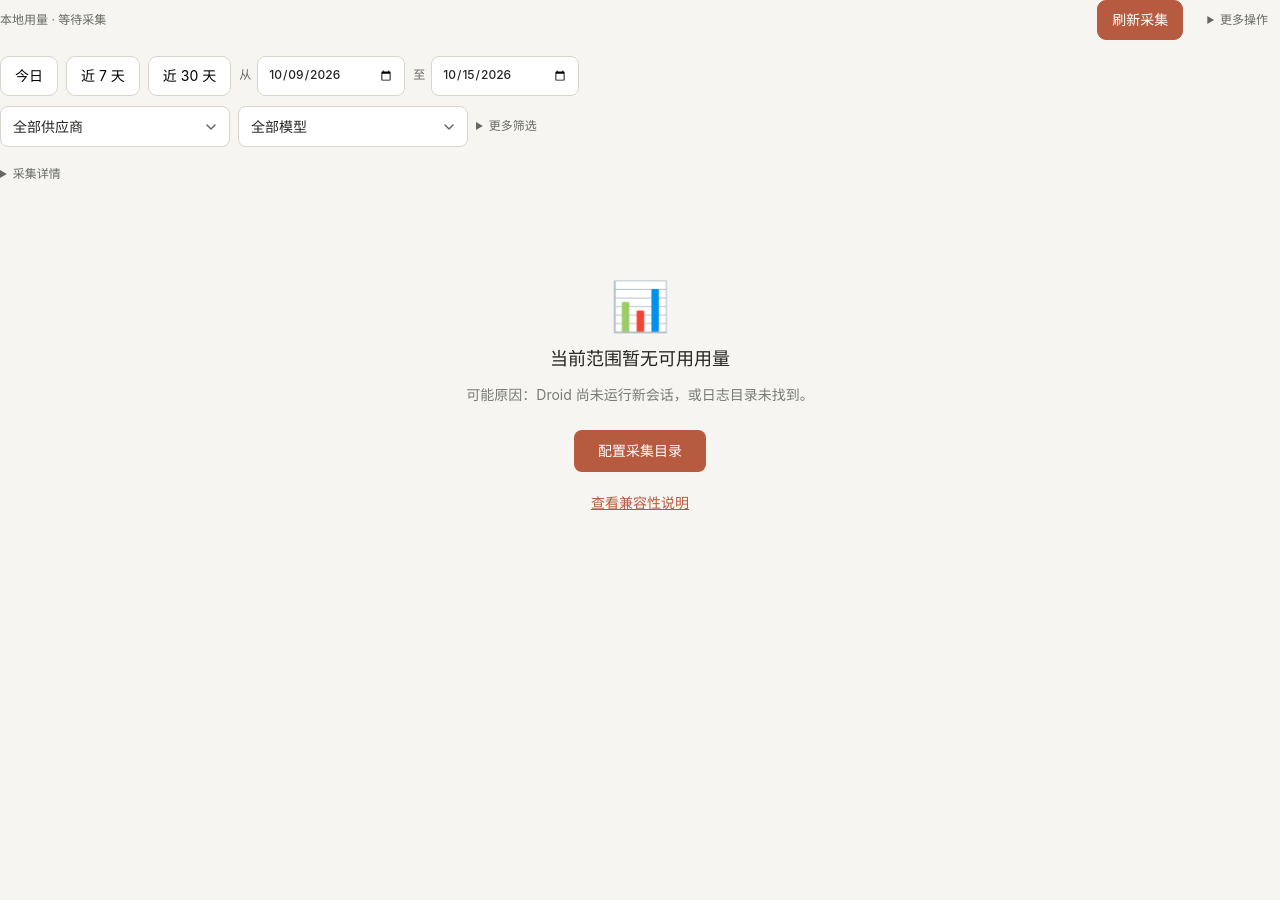
Test case: empty usage gives collection settings rather than fabricated zero totals
Expected: the heading "当前范围暂无可用用量" is shown, [550,348,730,369]
Click the button "配置采集目录" at [640, 451], box [574,430,706,472]
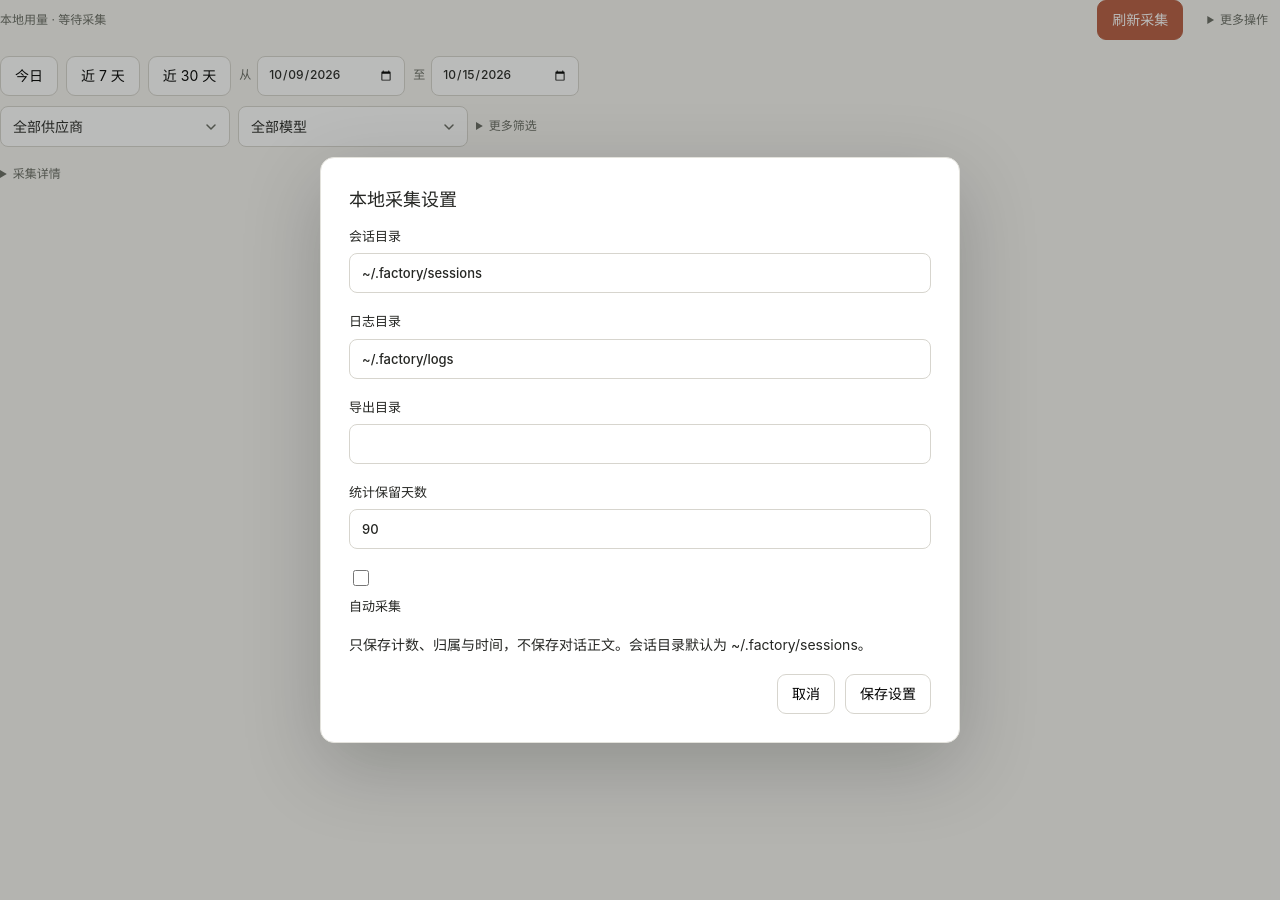
Now the dialog "采集设置" is shown, box [320,157,960,743]
